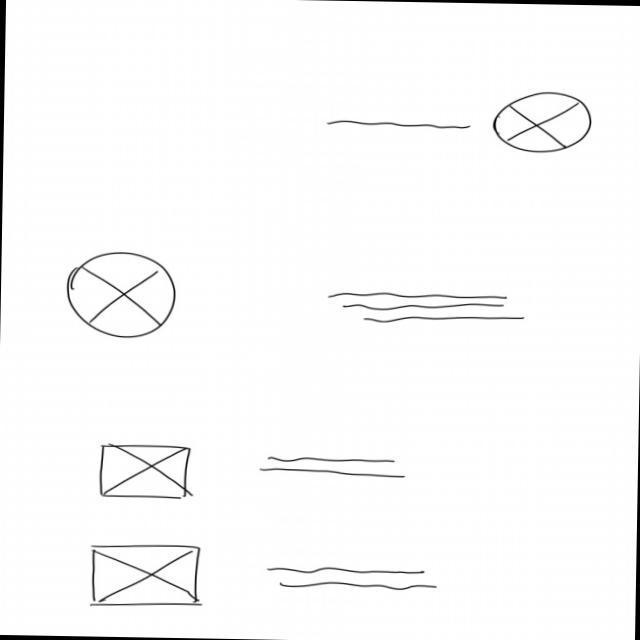image: (66, 250, 180, 341), (89, 543, 204, 610), (492, 90, 594, 156), (99, 443, 197, 501)
text: (325, 119, 473, 133)
textbox: (325, 290, 527, 328), (267, 565, 441, 594), (258, 454, 409, 480)
